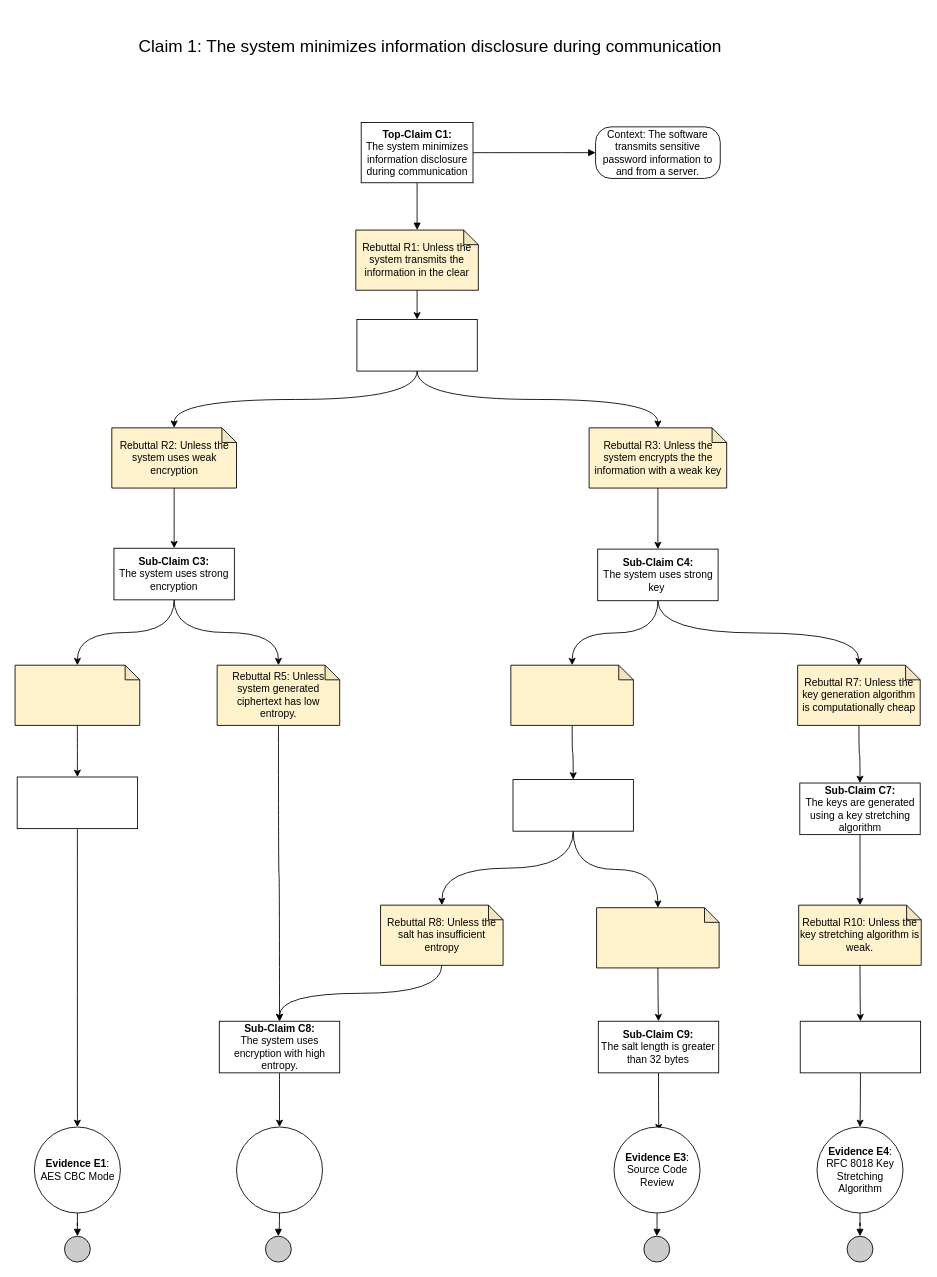
This 937x1277 diagram has some shape labels left out. The box of each missing label's shape, as (x1, y1, x2, y2) in pixels:
Evidence E2 : Hardware Randomness Library: (236, 1126, 322, 1213)
Rebuttal R4: Unless the system uses pattern generating encryption: (14, 664, 140, 725)
Rebuttal R6: Unless the key is not salted: (510, 664, 633, 725)
Rebuttal R9: Unless the salt is an insufficient length.: (596, 907, 719, 968)
Sub-Claim C10: The system uses an industry standard key stretching algorithm.: (799, 1020, 921, 1073)
Sub-Claim C2: The system uses encryption to protect data in transit.: (356, 319, 477, 371)
Sub-Claim C5: The system uses non-pattern generating encryption: (16, 776, 138, 829)
Sub-Claim C6: The keys are generated using salt.: (512, 779, 633, 831)
